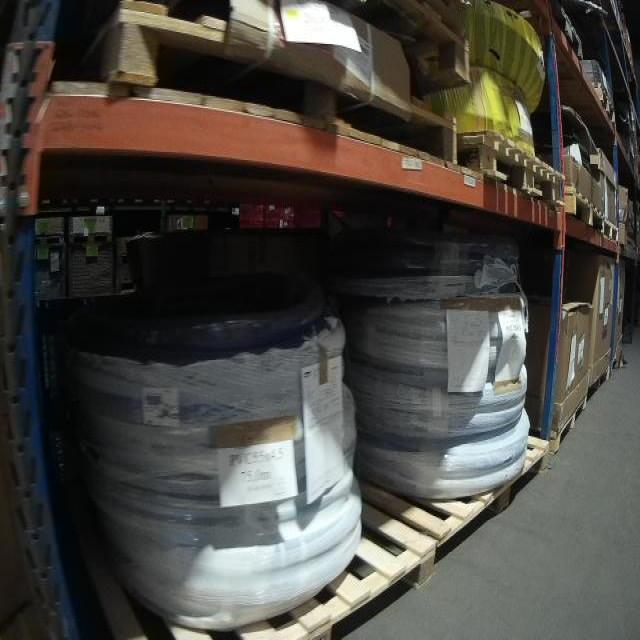pallet: (76, 7, 470, 167), (90, 496, 438, 638), (360, 430, 550, 540), (457, 129, 566, 209), (542, 390, 587, 458), (564, 185, 605, 237), (586, 80, 619, 125), (583, 367, 612, 405), (605, 216, 619, 247)
